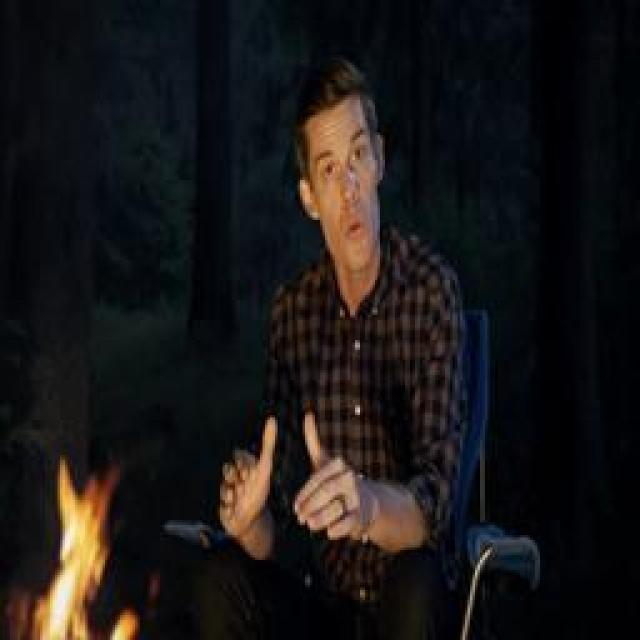Fire: (32, 455, 140, 640)
